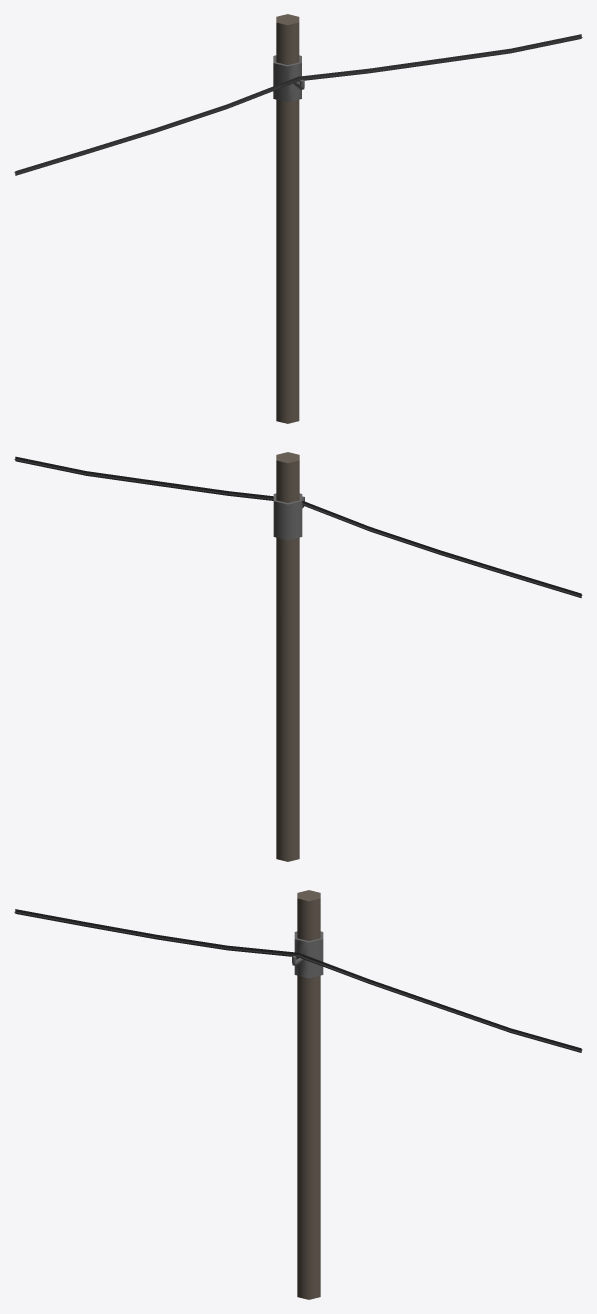
Rendered from POSTENORMALFBX.fbx.
3 renders of one model, top to bottom at view 1: azimuth 30°, elevation 25°; view 2: azimuth 150°, elevation 25°; view 3: azimuth 330°, elevation 25°, orthographic.
Parts seen in each view (by area): view 1: Normal, pasted__Cable, pasted__pasted__Cable; view 2: Normal, pasted__pasted__Cable, pasted__Cable; view 3: Normal, pasted__Cable, pasted__pasted__Cable.
Part boxes in pixels (bbox=[...]): Normal: bbox=[273, 14, 304, 423]; pasted__Cable: bbox=[298, 34, 582, 81]; pasted__pasted__Cable: bbox=[14, 77, 299, 175]; Normal: bbox=[273, 452, 304, 861]; pasted__pasted__Cable: bbox=[302, 500, 582, 598]; pasted__Cable: bbox=[14, 456, 273, 500]; Normal: bbox=[292, 890, 323, 1299]; pasted__Cable: bbox=[297, 952, 582, 1052]; pasted__pasted__Cable: bbox=[14, 909, 298, 957].
Bounding box in the file's own units: 10 × 6.73 × 0.6945.
